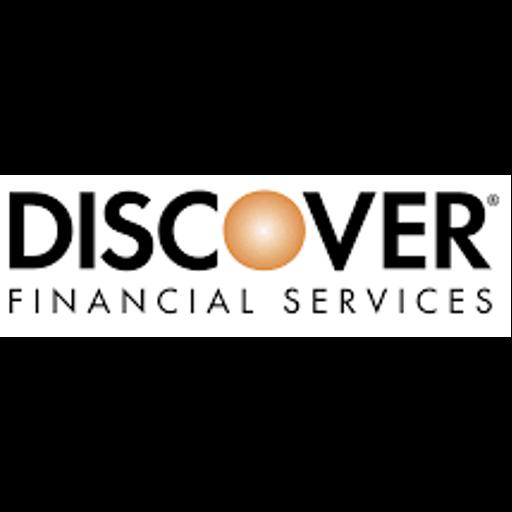Discover: (0, 175, 511, 337)
